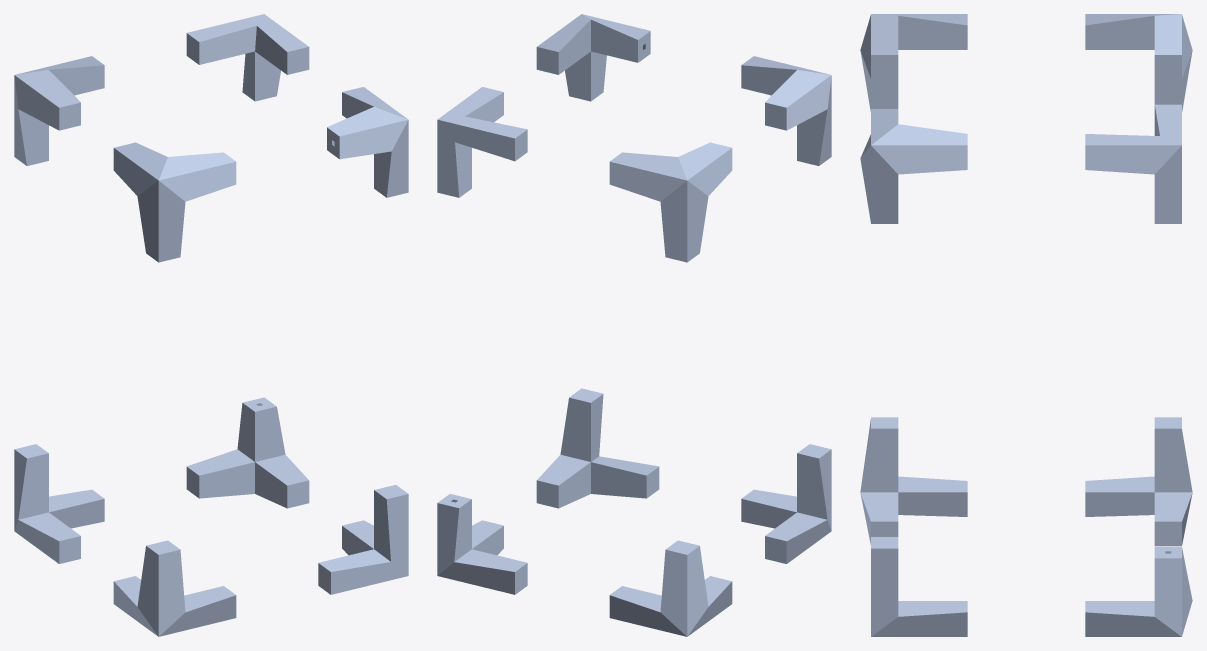
Rendered from selector.fbx.
3 renders of one model, left to right at view 1: azimuth 30°, elevation 25°; view 2: azimuth 150°, elevation 25°; view 3: azimuth 270°, elevation 25°, orthographic. The views are drawn at different scales.
Parts seen in each view (by area): view 1: selector; view 2: selector; view 3: selector.
Part boxes in pixels (x1,y1,x2,y2): selector: [14, 14, 408, 636]; selector: [437, 14, 831, 636]; selector: [860, 14, 1192, 636].
Bounding box in the file's own units: 115 × 195 × 115.
